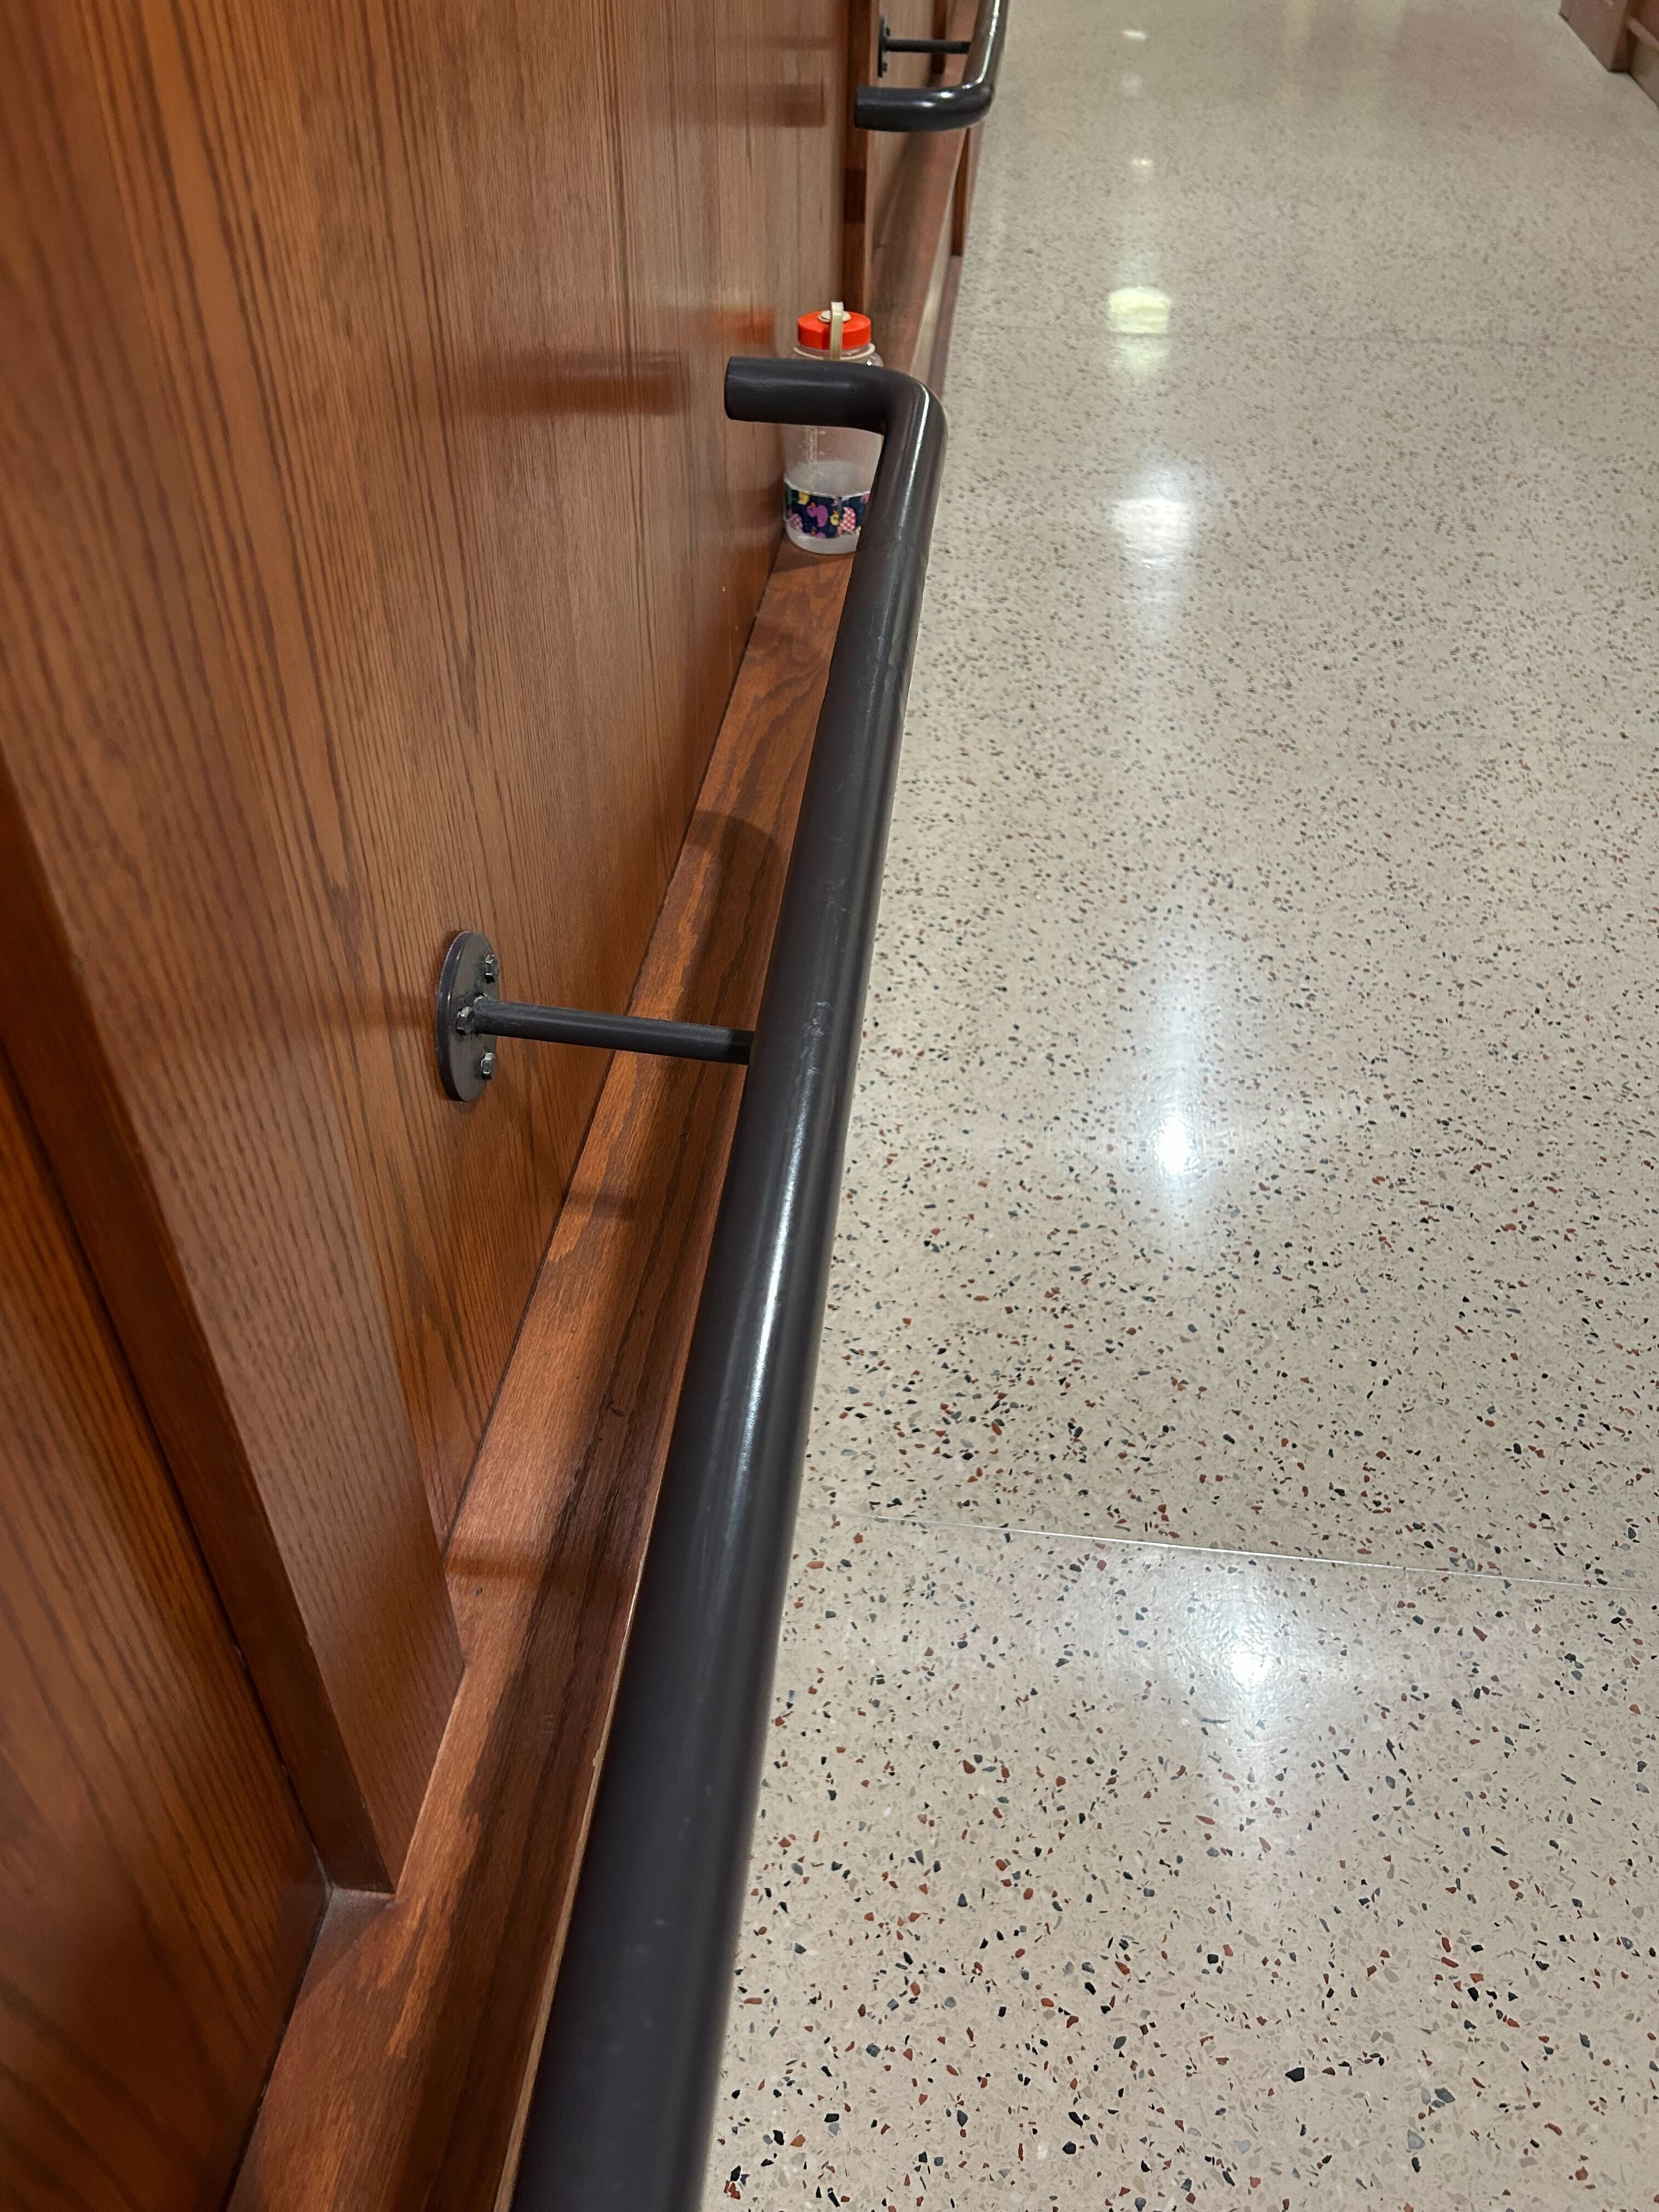bottle: (781, 300, 887, 563)
